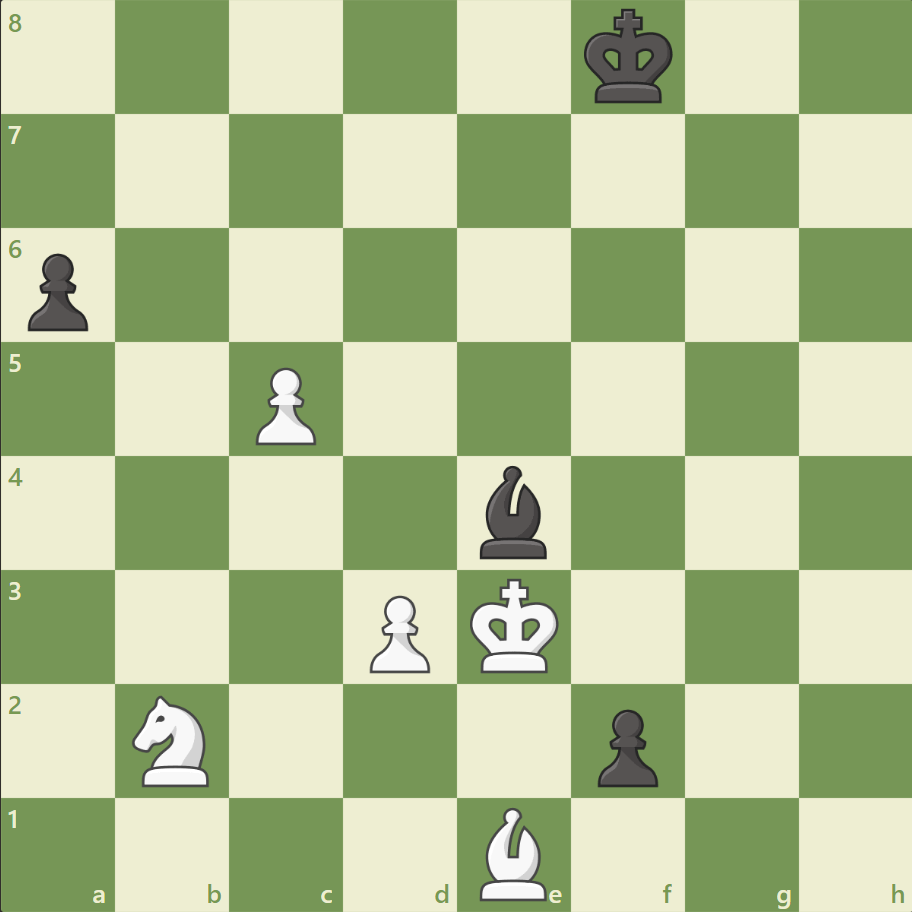B: (471, 801, 555, 904)
K: (465, 571, 565, 679)
N: (124, 688, 222, 791)
P: (247, 359, 322, 450), (361, 586, 435, 677)
b: (471, 460, 555, 563)
k: (579, 4, 679, 112)
p: (20, 246, 95, 337), (588, 700, 662, 791)
